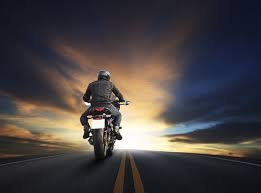motor: (70, 95, 132, 151)
